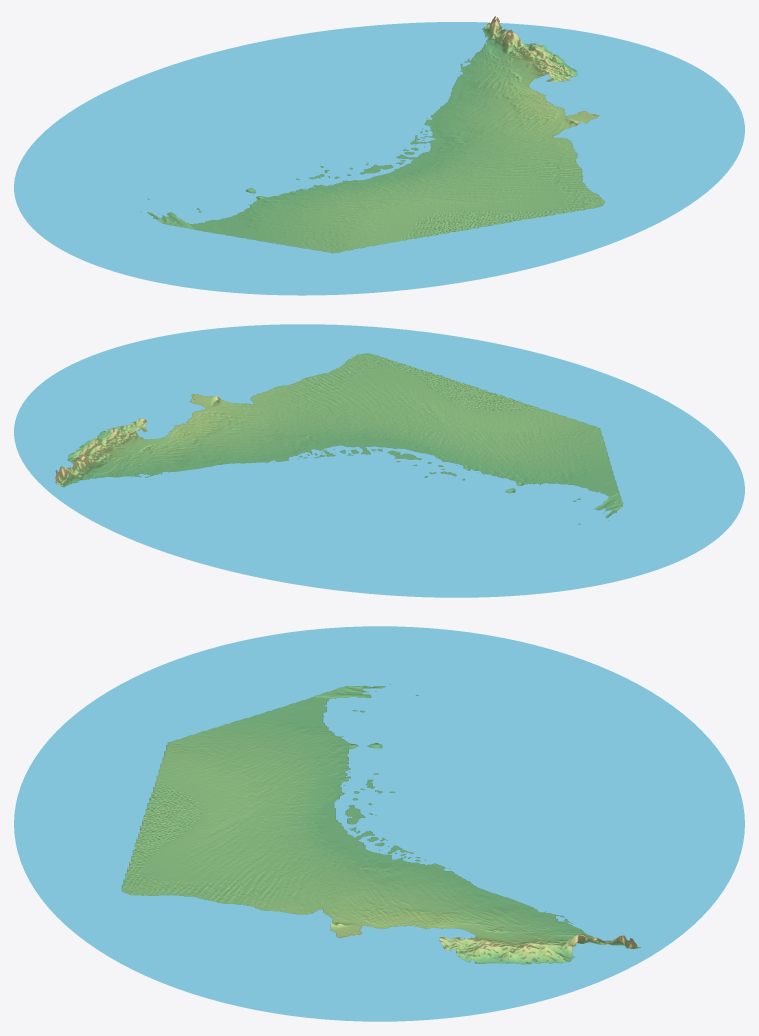
The model's file is ARE-terrain.glb.
3 views of the same model, one above another, from view 1: azimuth 30°, elevation 25°; view 2: azimuth 150°, elevation 25°; view 3: azimuth 270°, elevation 25° (orthographic). The views are drawn at different scales.
Parts seen in each view (by area): view 1: Relevo com hidrografia; view 2: Relevo com hidrografia; view 3: Relevo com hidrografia.
Part boxes in pixels (x1,y1,x2,y2): Relevo com hidrografia: [14, 16, 744, 295]; Relevo com hidrografia: [14, 324, 744, 597]; Relevo com hidrografia: [14, 626, 744, 1021].
Bounding box in the file's own units: 2.26 × 0.0512 × 1.77.
Materials: 2 (1 with a texture image).
